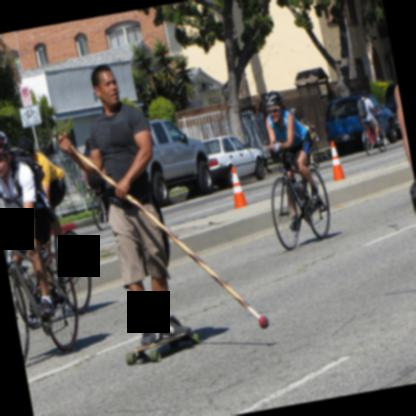backpack: (10, 148, 44, 191), (357, 96, 366, 118)
